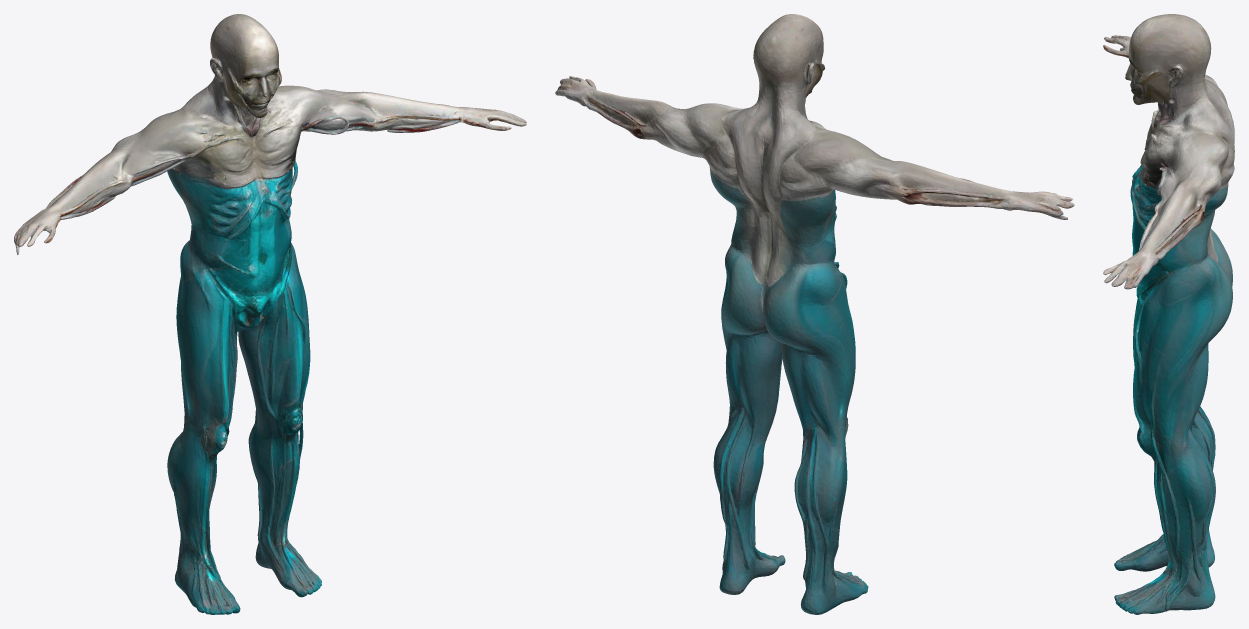
File: human_anatomy.fbx
3 views of the same model, side by side, from view 1: azimuth 30°, elevation 25°; view 2: azimuth 150°, elevation 25°; view 3: azimuth 270°, elevation 25° (orthographic).
Parts seen in each view (by area): view 1: world; view 2: world; view 3: world.
Part boxes in pixels (x1,y1,x2,y2): world: [14, 14, 526, 614]; world: [555, 14, 1074, 614]; world: [1103, 14, 1234, 614].
Bounding box in the file's own units: 186 × 199 × 41.64.
Materials: 1 (1 with a texture image).
